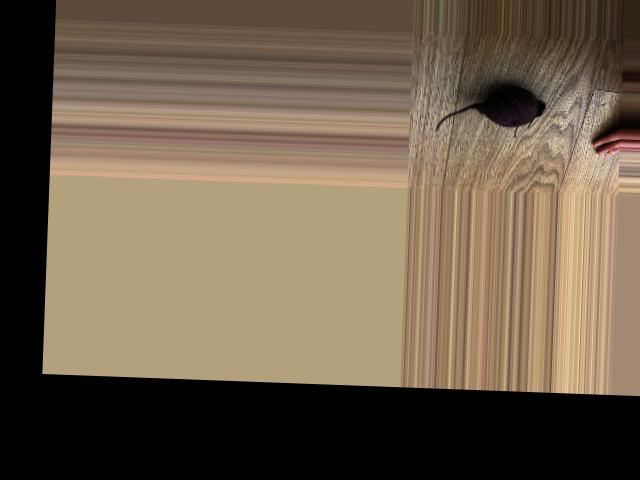beet: (434, 84, 545, 138)
